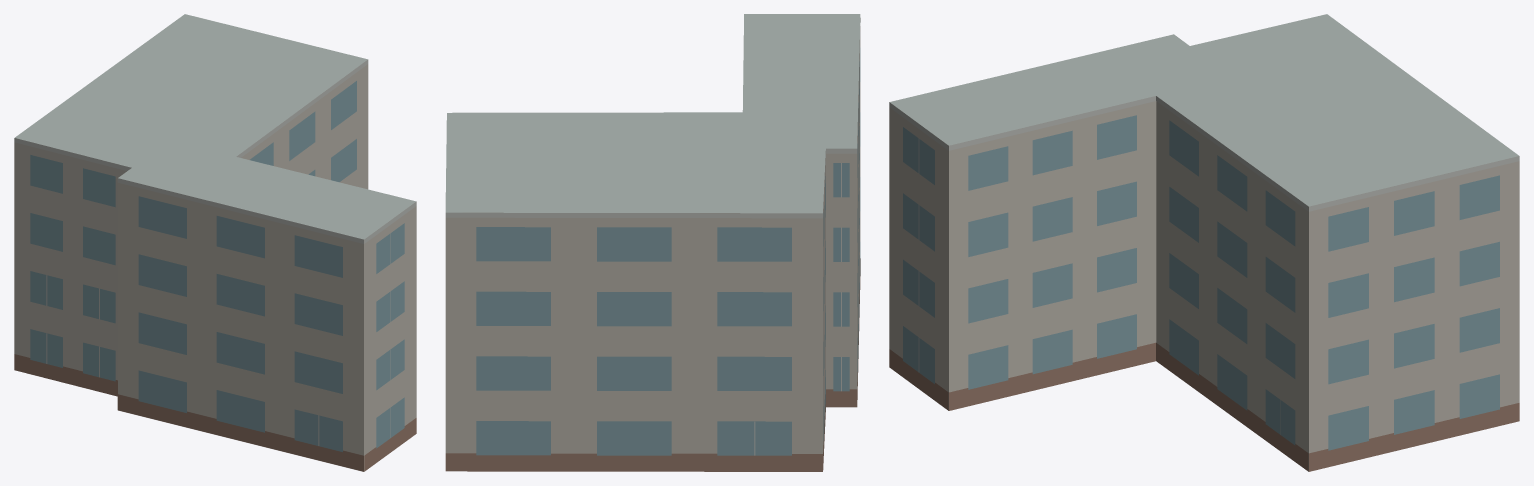
Rendered from survey-upis-32989976.glb.
3 renders of one model, left to right at view 1: azimuth 30°, elevation 25°; view 2: azimuth 150°, elevation 25°; view 3: azimuth 270°, elevation 25°, orthographic. The views are drawn at different scales.
Visible parts, largest first — view 1: survey-upis-32989976.tmp; view 2: survey-upis-32989976.tmp; view 3: survey-upis-32989976.tmp.
Boxes of the visible parts, bbox=[...] form: survey-upis-32989976.tmp: bbox=[14, 14, 416, 471]; survey-upis-32989976.tmp: bbox=[445, 14, 860, 471]; survey-upis-32989976.tmp: bbox=[889, 14, 1519, 471].
Size of the model in its own units: 19.63 by 12.6 by 27.14.
